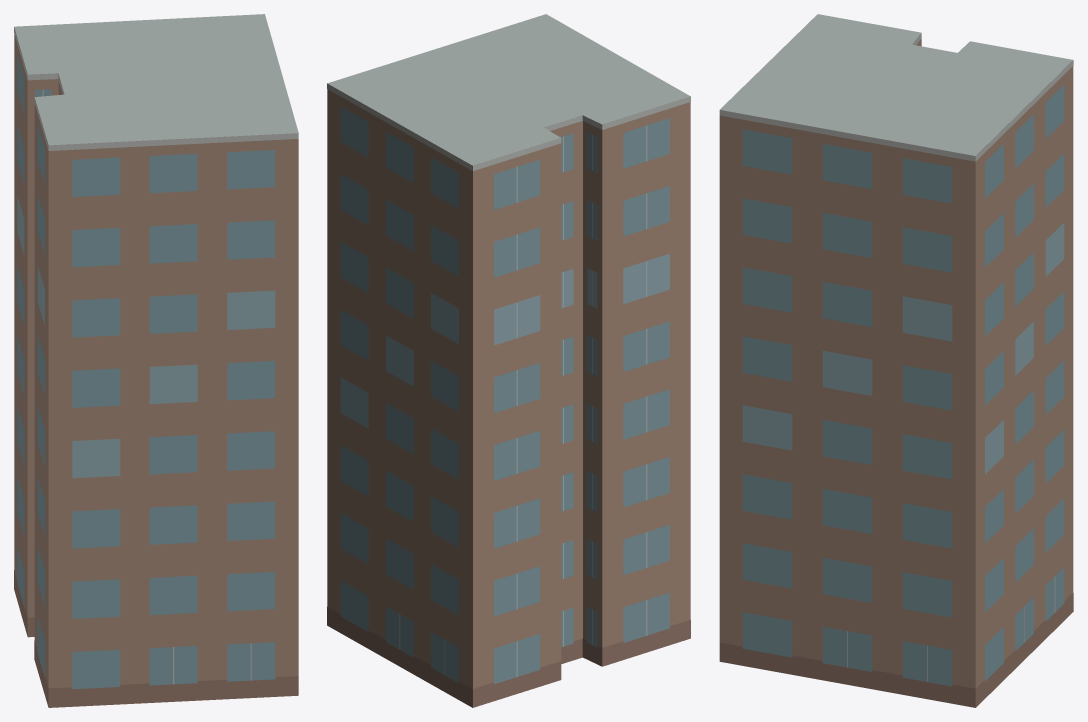
The model's file is survey-upis-33043688.glb.
The picture shows the model from 3 angles, left to right: view 1: azimuth 30°, elevation 25°; view 2: azimuth 150°, elevation 25°; view 3: azimuth 270°, elevation 25°; orthographic projection. The views are drawn at different scales.
Visible parts, largest first — view 1: survey-upis-33043688.tmp; view 2: survey-upis-33043688.tmp; view 3: survey-upis-33043688.tmp.
Boxes of the visible parts, left/top/right/bottom form: survey-upis-33043688.tmp: left=14, top=14, right=298, bottom=707; survey-upis-33043688.tmp: left=327, top=14, right=690, bottom=707; survey-upis-33043688.tmp: left=719, top=14, right=1073, bottom=707.
Bounding box in the file's own units: 13.32 × 24.1 × 14.02.
